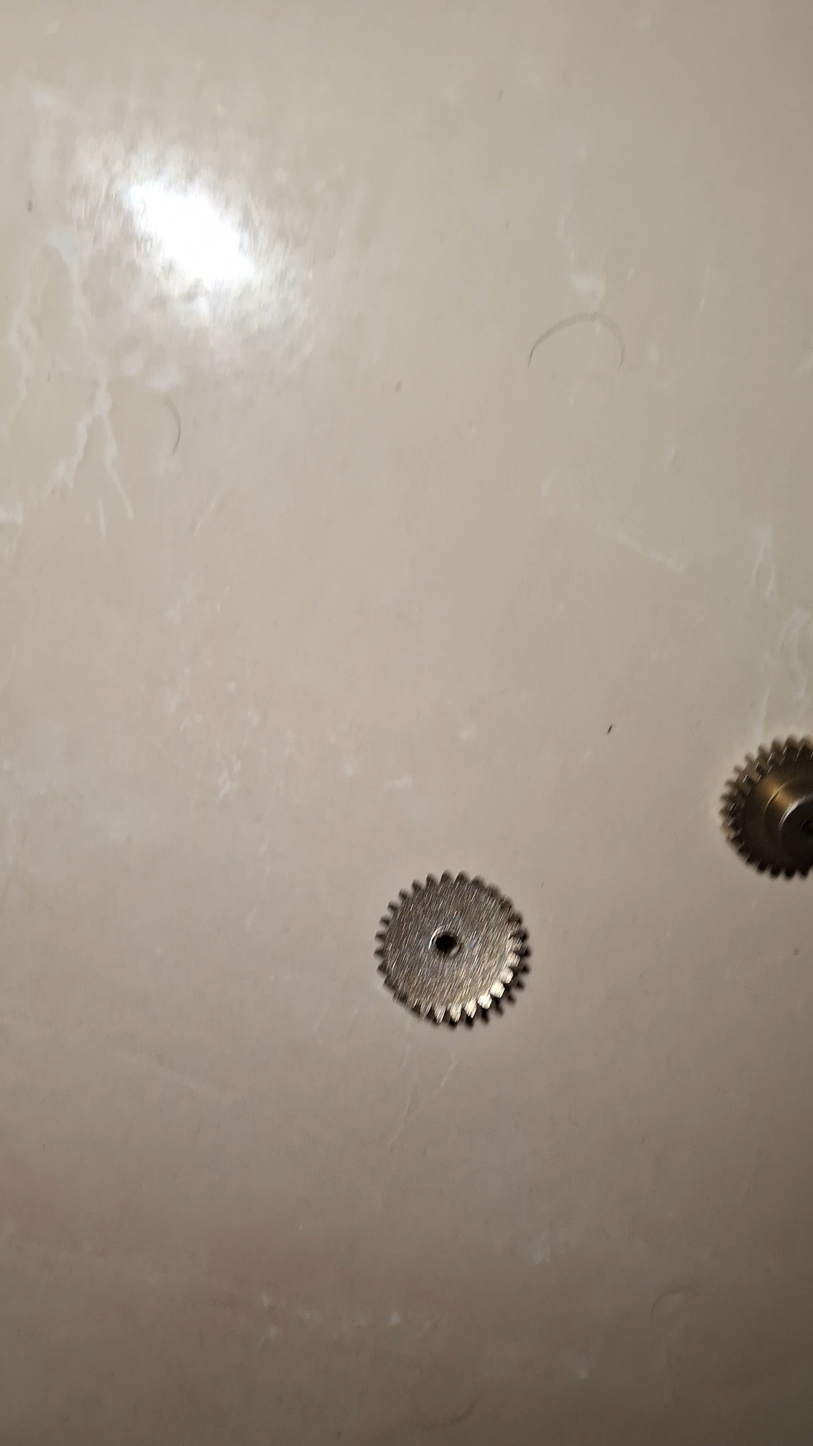spur gear: (376, 873, 527, 1023), (722, 737, 813, 877)
